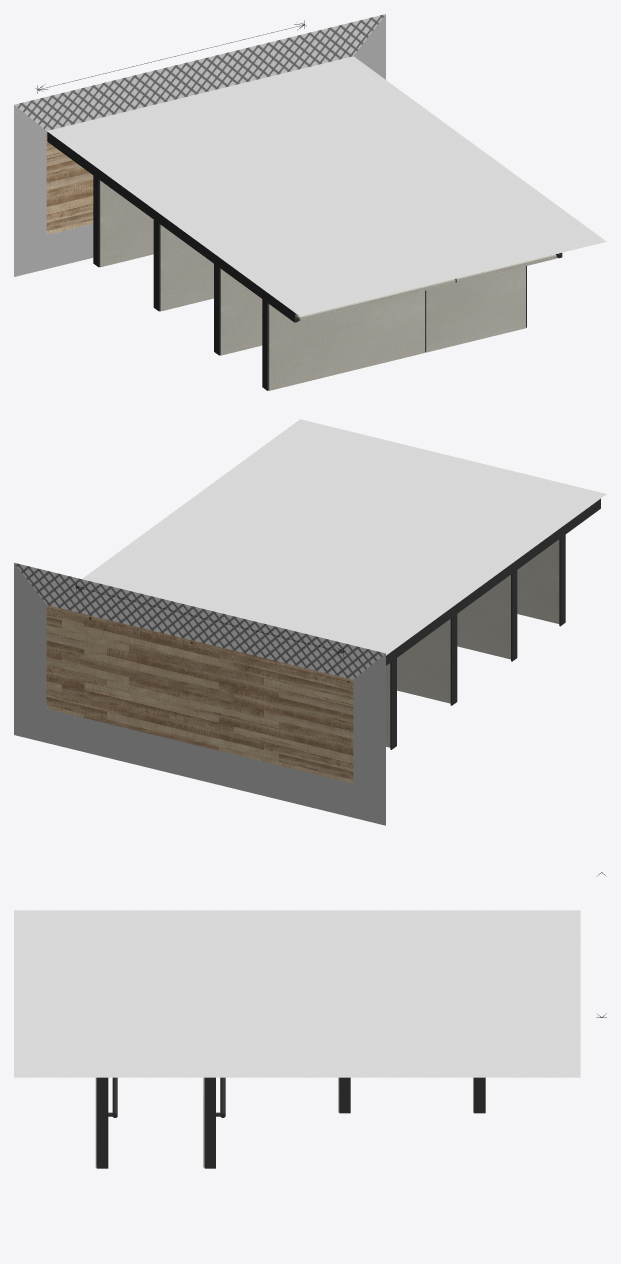
The model's file is B3 HC Pantry V3 TI.OBJ.
3 renders of one model, top to bottom at view 1: azimuth 30°, elevation 25°; view 2: azimuth 150°, elevation 25°; view 3: azimuth 270°, elevation 25°, orthographic. The views are drawn at different scales.
Parts seen in each view (by area): view 1: Object_65, Object_66, Object_40, Object_43, Object_72, Object_64, Object_31, Object_37, Object_34, Object_2, Object_70, Object_68 (+6 smaller); view 2: Object_65, Object_64, Object_66, Object_70, Object_68, Object_72, Object_31, Object_34, Object_40, Object_2, Object_32, Object_38 (+2 smaller); view 3: Object_65, Object_44, Object_30.
Boxes of the visible parts, <box> form: Object_65: <box>47,56,606,316</box>; Object_66: <box>14,14,385,130</box>; Object_40: <box>268,291,424,390</box>; Object_43: <box>425,266,525,352</box>; Object_72: <box>14,105,46,276</box>; Object_64: <box>46,131,93,234</box>; Object_31: <box>160,224,213,311</box>; Object_37: <box>100,180,153,267</box>; Object_34: <box>220,268,262,355</box>; Object_2: <box>47,132,298,322</box>; Object_70: <box>14,223,93,276</box>; Object_68: <box>353,14,385,79</box>; Object_65: <box>82,419,606,655</box>; Object_64: <box>46,605,353,783</box>; Object_66: <box>14,562,385,679</box>; Object_70: <box>14,709,385,825</box>; Object_68: <box>14,563,46,734</box>; Object_72: <box>353,654,385,825</box>; Object_31: <box>397,619,450,703</box>; Object_34: <box>457,575,510,659</box>; Object_40: <box>517,539,559,623</box>; Object_2: <box>386,498,600,665</box>; Object_32: <box>450,614,457,705</box>; Object_38: <box>390,658,396,749</box>; Object_65: <box>14,910,580,1077</box>; Object_44: <box>96,1077,108,1168</box>; Object_30: <box>204,1077,215,1168</box>.
Bounding box in the file's own units: 2280 × 1034 × 2817.
Materials: 11 (11 with a texture image).
